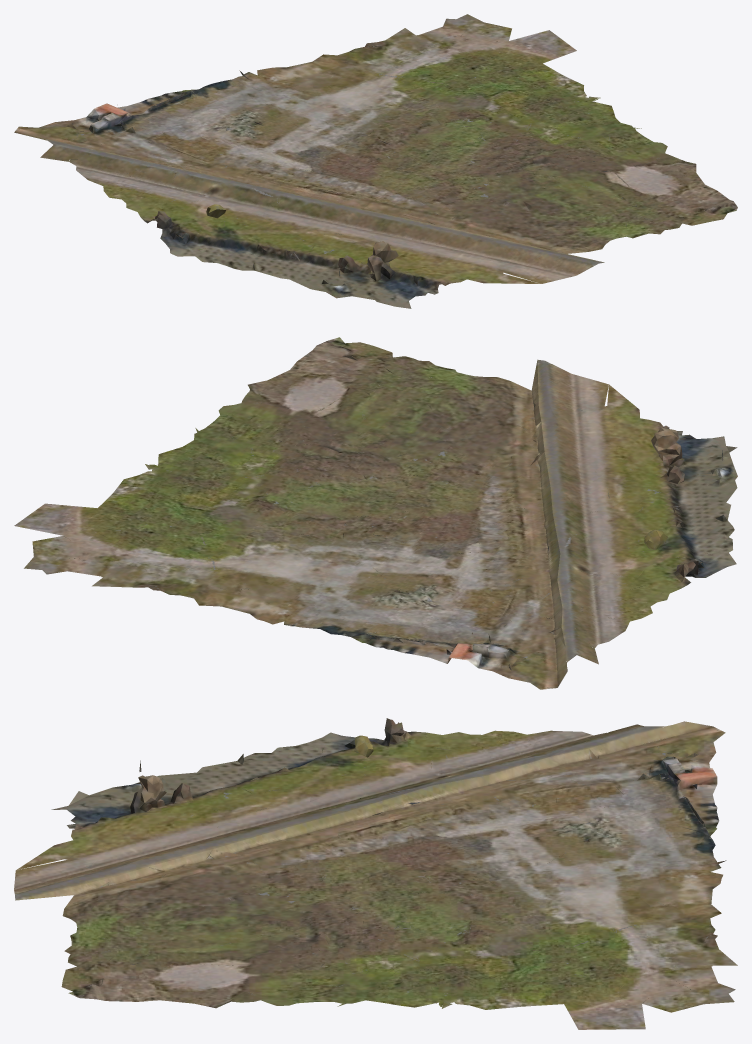
The model's file is Tile_006_012_L17.gltf.
3 views of the same model, one above another, from view 1: azimuth 30°, elevation 25°; view 2: azimuth 150°, elevation 25°; view 3: azimuth 270°, elevation 25° (orthographic). The views are drawn at different scales.
Visible parts, largest first — view 1: Tile_+006_+012_L17; view 2: Tile_+006_+012_L17; view 3: Tile_+006_+012_L17.
Boxes of the visible parts, <box> form: Tile_+006_+012_L17: <box>14,14,737,308</box>; Tile_+006_+012_L17: <box>14,337,737,689</box>; Tile_+006_+012_L17: <box>14,718,737,1029</box>.
Size of the model in its own units: 229 by 15 by 230.
1 material, 1 textured.
